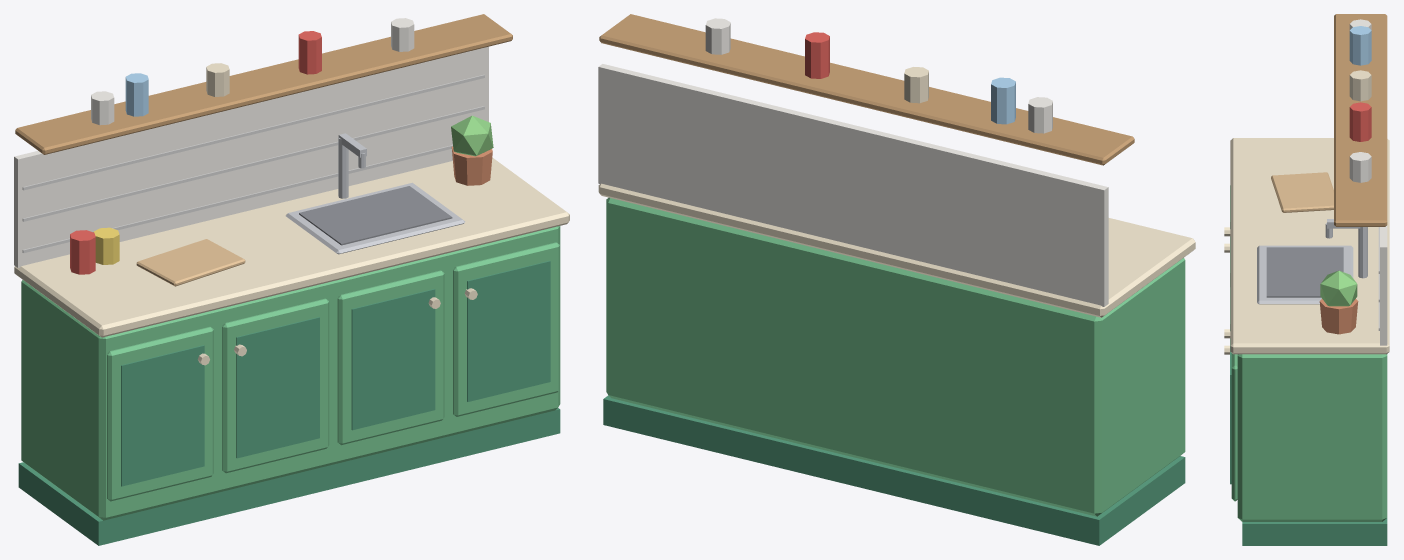
The model's file is prop_kitchen_counter_01.glb.
3 renders of one model, left to right at view 1: azimuth 30°, elevation 25°; view 2: azimuth 150°, elevation 25°; view 3: azimuth 270°, elevation 25°, orthographic. The views are drawn at different scales.
Parts seen in each view (by area): view 1: prop_kitchen_counter_01_body; view 2: prop_kitchen_counter_01_body; view 3: prop_kitchen_counter_01_body.
Part boxes in pixels (x1,y1,x2,y2): prop_kitchen_counter_01_body: [14, 14, 569, 545]; prop_kitchen_counter_01_body: [598, 14, 1195, 545]; prop_kitchen_counter_01_body: [1224, 14, 1389, 545].
Bounding box in the file's own units: 2.04 × 1.64 × 0.685.
